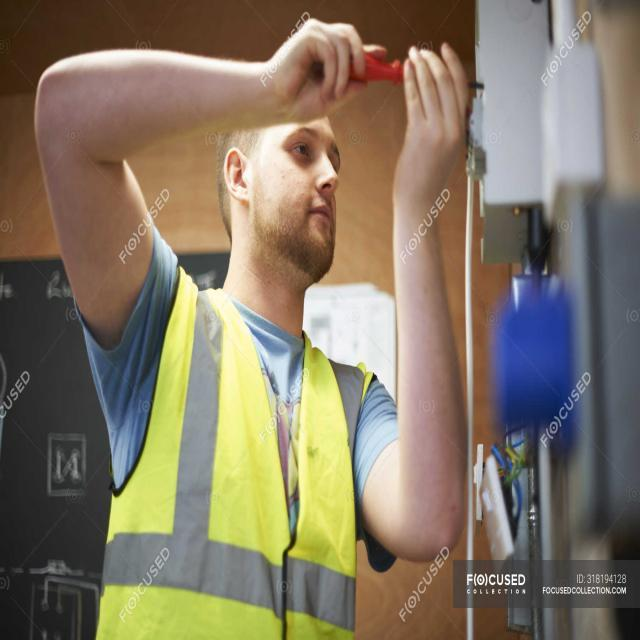screwdriver: (319, 30, 493, 96)
